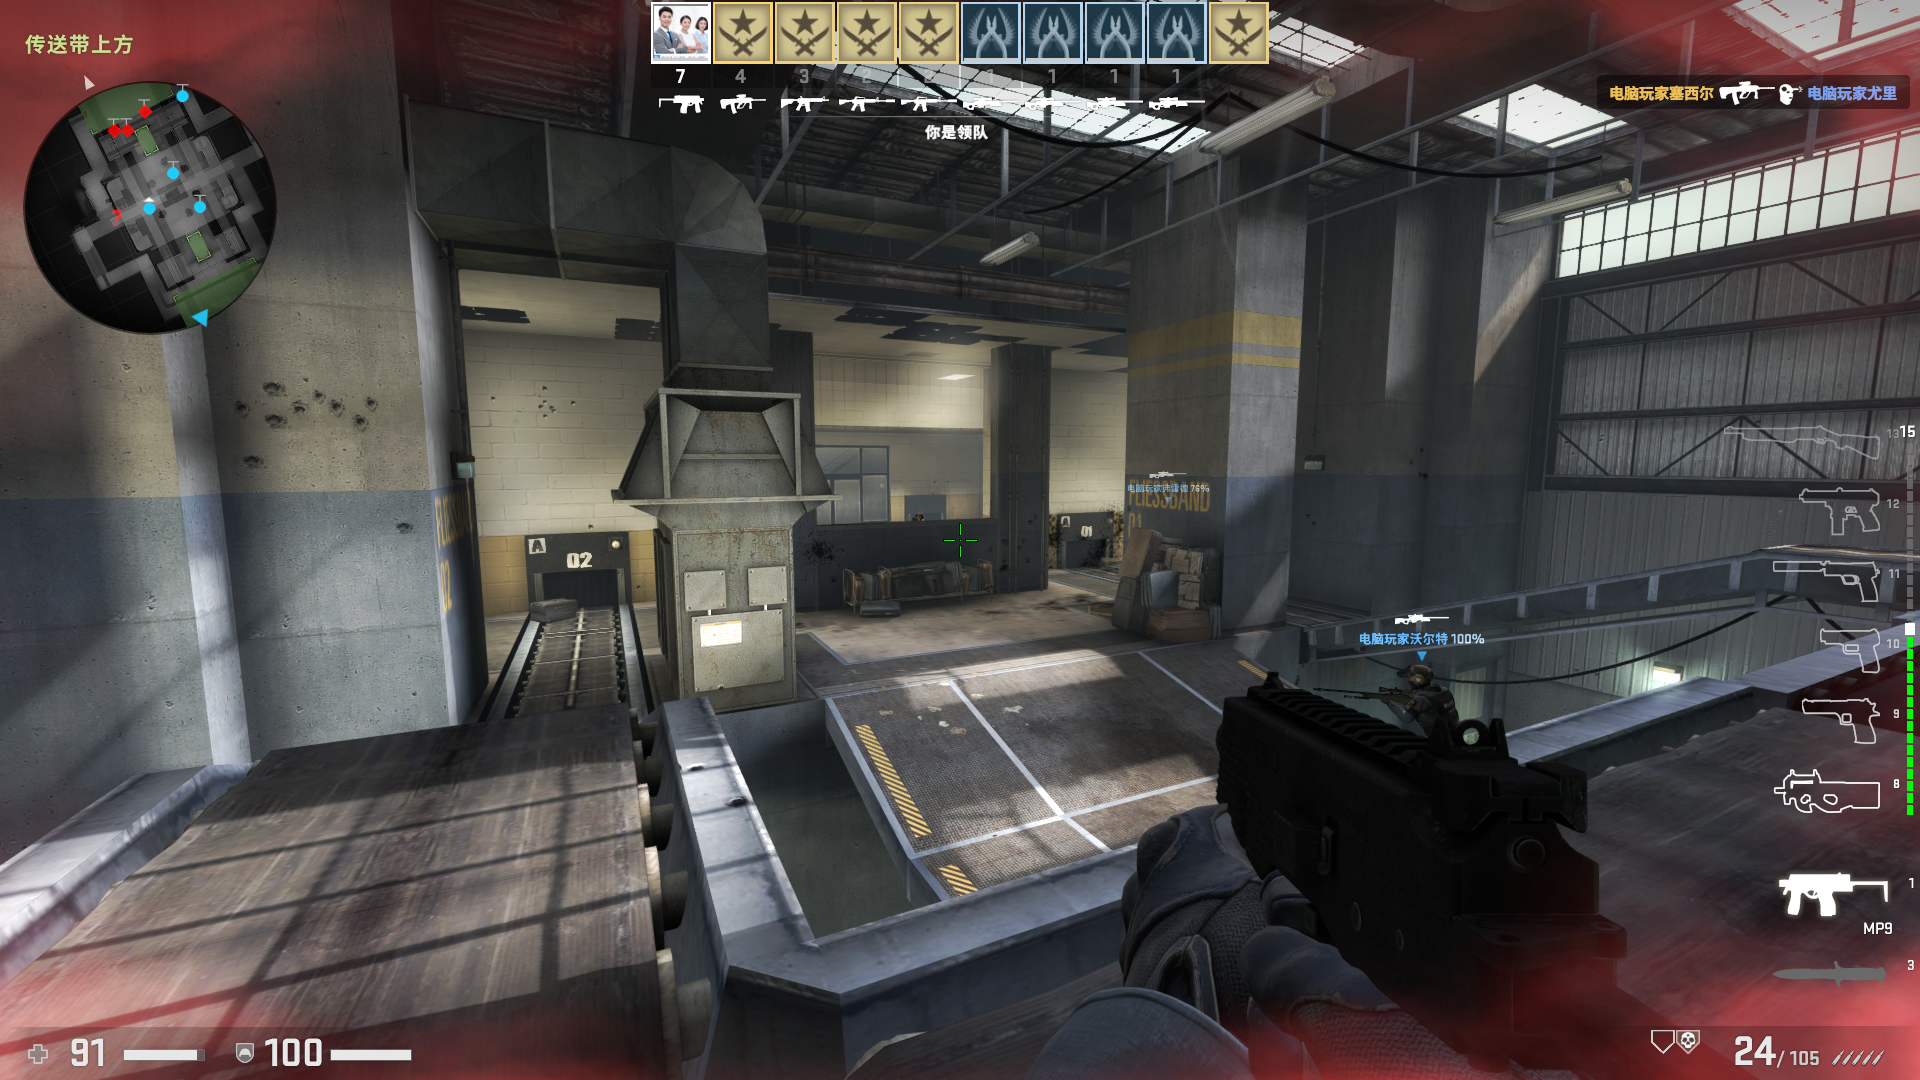person: (1371, 659, 1467, 728)
